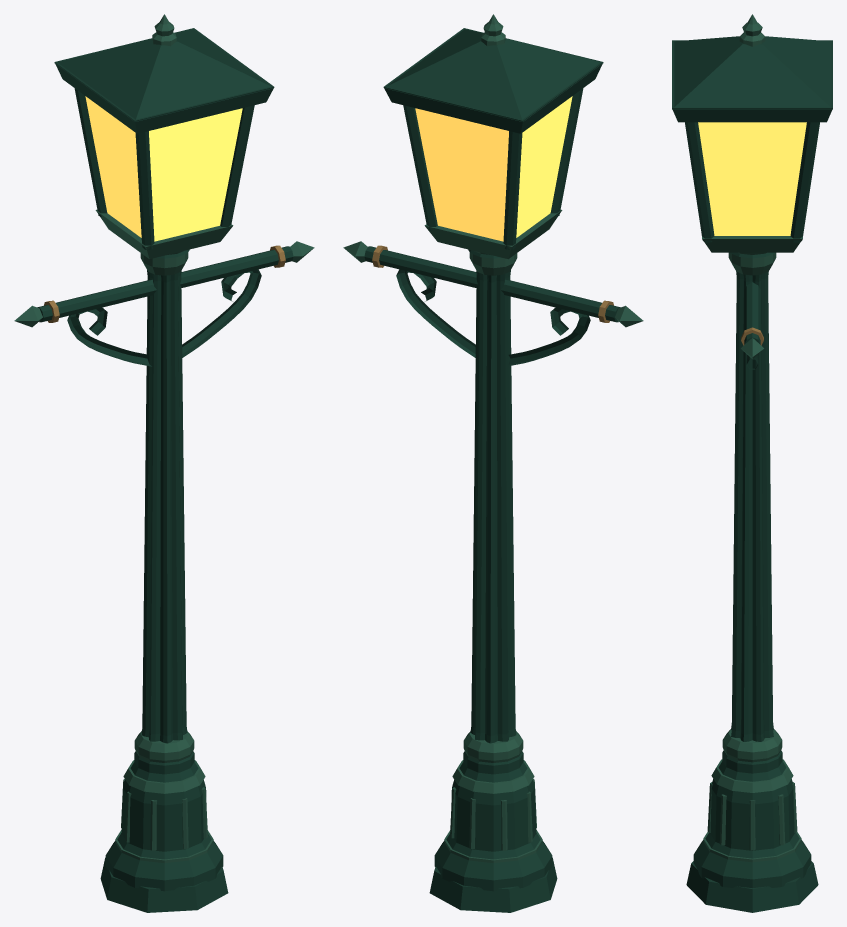
3 renders of one model, left to right at view 1: azimuth 30°, elevation 25°; view 2: azimuth 150°, elevation 25°; view 3: azimuth 270°, elevation 25°, orthographic.
Parts seen in each view (by area): view 1: streetlamp.post, extrusion (×2), streetlamp.lantern.roof, streetlamp.base.body, streetlamp.crossbar, streetlamp.lantern.eaves, sweep (×2), streetlamp.base.plinth, streetlamp.lantern.pan, streetlamp.lantern.front_left_bar, streetlamp.lantern.front_right_bar, streetlamp.post.lower_collar (+3 smaller); view 2: streetlamp.post, extrusion (×2), streetlamp.lantern.roof, streetlamp.base.body, streetlamp.crossbar, streetlamp.lantern.eaves, sweep (×2), streetlamp.base.plinth, streetlamp.lantern.pan, streetlamp.lantern.back_left_bar, streetlamp.lantern.back_right_bar, streetlamp.post.lower_collar (+3 smaller); view 3: streetlamp.post, streetlamp.lantern.roof, extrusion, streetlamp.base.body, streetlamp.base.plinth, streetlamp.lantern.eaves, streetlamp.lantern.front_right_bar, streetlamp.lantern.back_right_bar, streetlamp.lantern.pan, streetlamp.post.lower_collar, streetlamp.base.shoulder, streetlamp.crossbar (+3 smaller).
Boxes of the visible parts, left/top/right/bottom form: streetlamp.post: left=141, top=270, right=187, bottom=743; extrusion (×2): left=85, top=96, right=242, bottom=241; streetlamp.lantern.roof: left=54, top=29, right=273, bottom=121; streetlamp.base.body: left=105, top=751, right=223, bottom=891; streetlamp.crossbar: left=37, top=246, right=293, bottom=322; streetlamp.lantern.eaves: left=54, top=28, right=274, bottom=133; sweep (×2): left=67, top=269, right=261, bottom=366; streetlamp.base.plinth: left=100, top=857, right=228, bottom=912; streetlamp.lantern.pan: left=95, top=209, right=233, bottom=259; streetlamp.lantern.front_left_bar: left=135, top=131, right=154, bottom=249; streetlamp.lantern.front_right_bar: left=220, top=105, right=254, bottom=231; streetlamp.post.lower_collar: left=134, top=731, right=194, bottom=762; streetlamp.post: left=470, top=270, right=516, bottom=743; extrusion (×2): left=415, top=96, right=572, bottom=241; streetlamp.lantern.roof: left=384, top=29, right=603, bottom=121; streetlamp.base.body: left=434, top=751, right=552, bottom=891; streetlamp.crossbar: left=364, top=246, right=620, bottom=322; streetlamp.lantern.eaves: left=383, top=28, right=603, bottom=133; sweep (×2): left=396, top=269, right=590, bottom=366; streetlamp.base.plinth: left=429, top=857, right=557, bottom=912; streetlamp.lantern.pan: left=424, top=209, right=562, bottom=259; streetlamp.lantern.back_left_bar: left=503, top=131, right=522, bottom=249; streetlamp.lantern.back_right_bar: left=403, top=105, right=437, bottom=231; streetlamp.post.lower_collar: left=463, top=731, right=523, bottom=762; streetlamp.post: left=731, top=271, right=773, bottom=741; streetlamp.lantern.roof: left=672, top=36, right=832, bottom=109; extrusion: left=698, top=122, right=806, bottom=235; streetlamp.base.body: left=693, top=750, right=811, bottom=887; streetlamp.base.plinth: left=686, top=861, right=818, bottom=912; streetlamp.lantern.eaves: left=672, top=40, right=832, bottom=122; streetlamp.lantern.front_right_bar: left=685, top=122, right=714, bottom=242; streetlamp.lantern.back_right_bar: left=790, top=122, right=819, bottom=242; streetlamp.lantern.pan: left=702, top=236, right=802, bottom=252; streetlamp.post.lower_collar: left=722, top=729, right=782, bottom=762; streetlamp.base.shoulder: left=711, top=759, right=793, bottom=792; streetlamp.crossbar: left=744, top=282, right=760, bottom=344.
Bounding box in the file's own units: 1.44 × 4 × 0.67.
